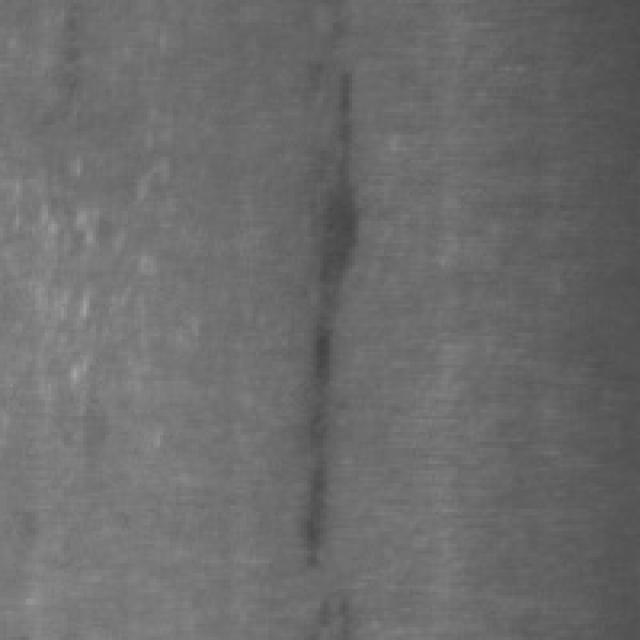inclusion: (288, 61, 384, 362), (288, 304, 349, 576)
